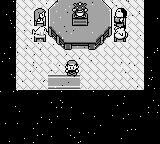leer: (72, 2, 88, 20)
main: (64, 60, 80, 76)
no-caminable: (3, 1, 159, 143)
npc: (114, 23, 128, 39), (114, 8, 127, 23), (34, 8, 46, 23), (33, 26, 48, 36)
puerta: (44, 74, 83, 90)
